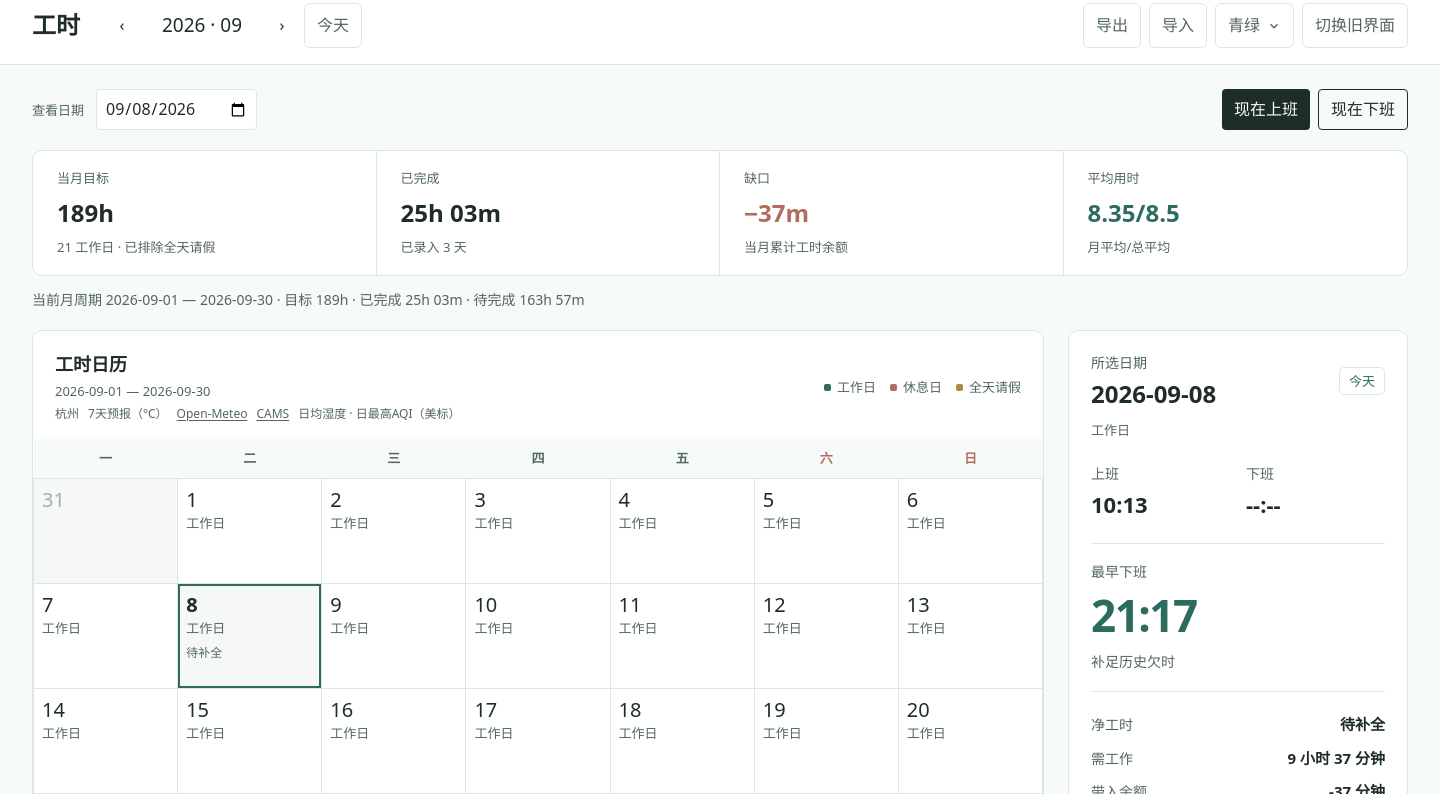
Scenario: uses the server prediction and monthly totals, and preserves the selected date in the interface switch
Expected: the text "21:17" is shown, [1091,585,1196,645]
Expected: the text "189h" is shown, [57,196,114,229]
Click the button with aria-label "选择 2026-09-09".
click(394, 636)  # box [322,584,465,688]
(page scrolled)
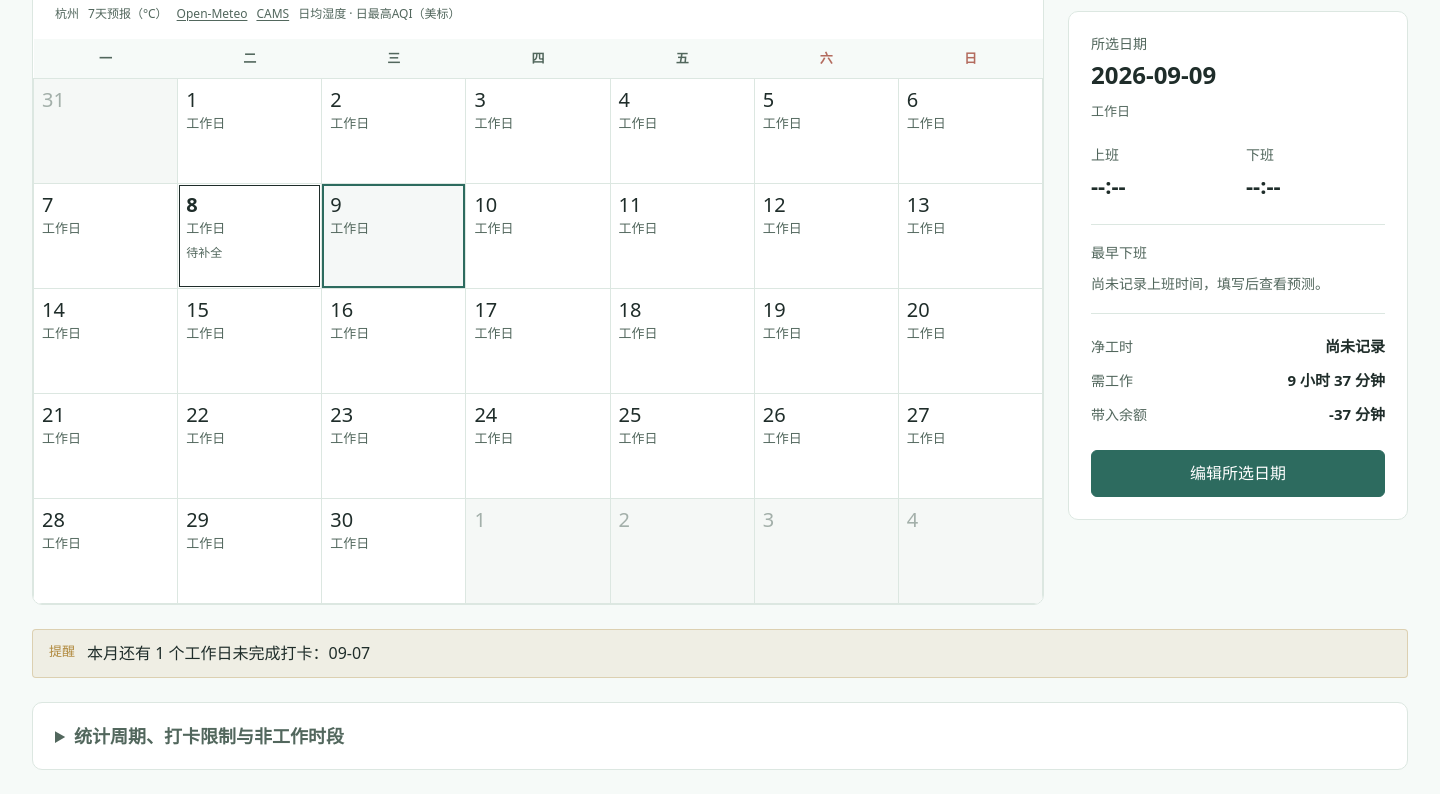
Click the button "编辑所选日期".
click(1238, 473)  # box [1091,449,1385,496]
(page scrolled)
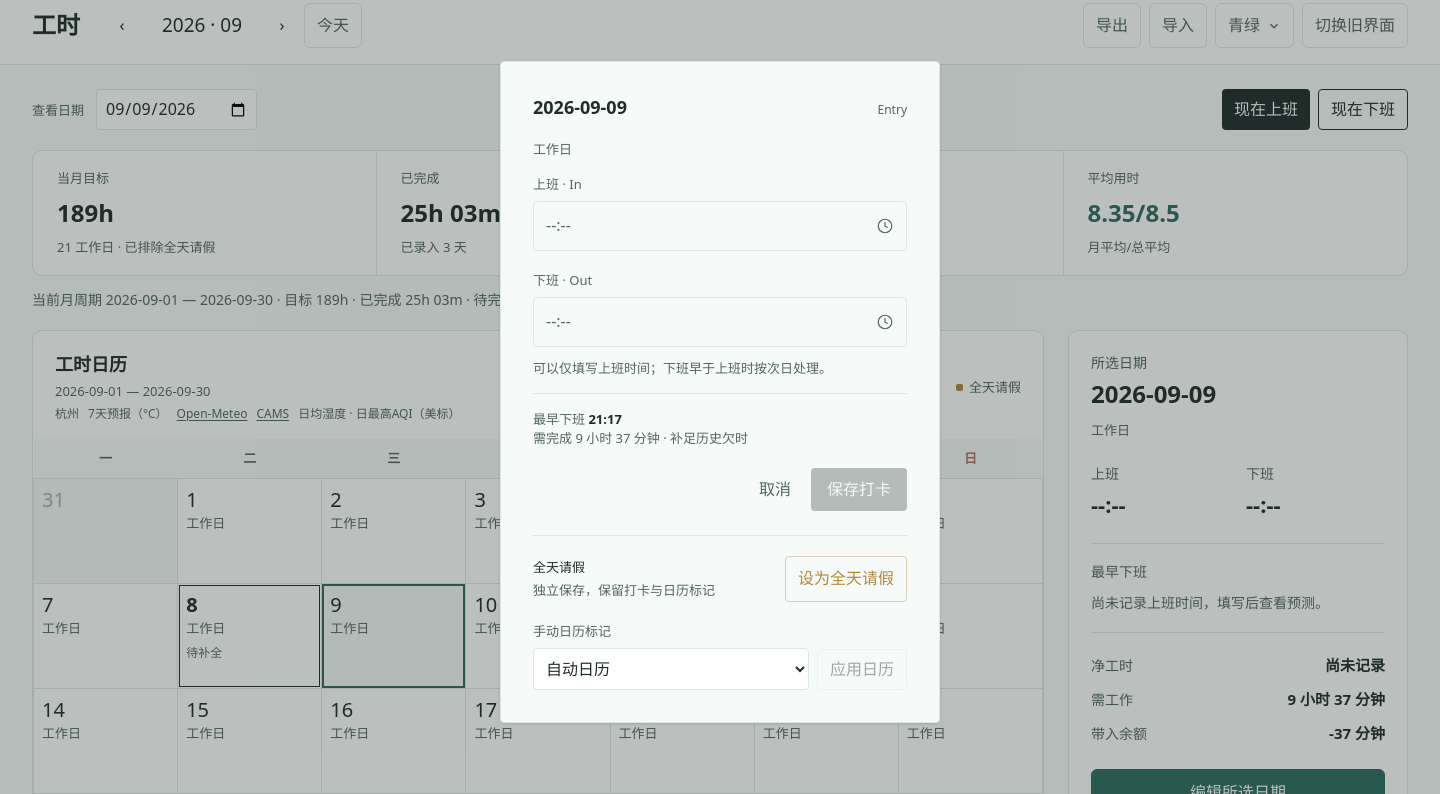
Result: the dialog is shown at [500,61,940,723]
